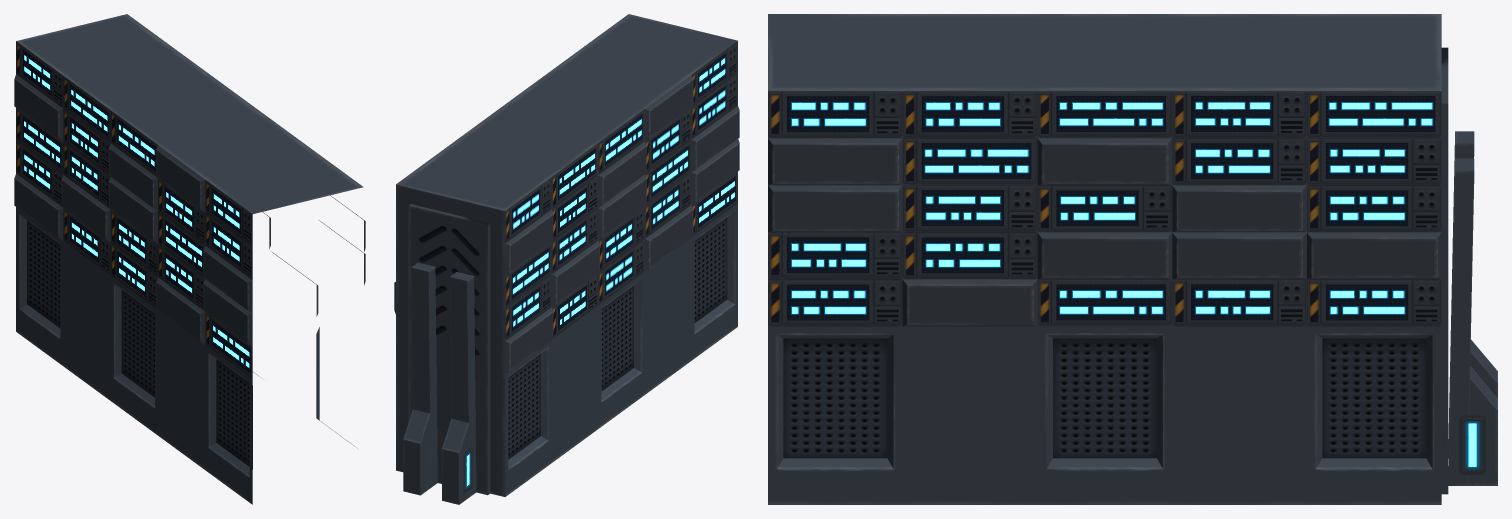
The model's file is server.glb.
The picture shows the model from 3 angles, left to right: view 1: azimuth 30°, elevation 25°; view 2: azimuth 150°, elevation 25°; view 3: azimuth 270°, elevation 25°; orthographic projection. The views are drawn at different scales.
Visible parts, largest first — view 1: Cube; view 2: Cube; view 3: Cube.
Part boxes in pixels (box(x1,y1,x2,y2)): Cube: box(14, 14, 365, 504); Cube: box(394, 14, 739, 504); Cube: box(768, 14, 1497, 504).
Size of the model in its own units: 1.06 by 2.5 by 4.
1 material, 1 textured.
